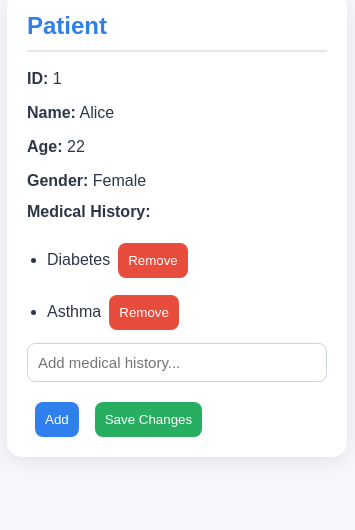
Test case: PatientCard › adds new medical history
This screenshot has width=355, height=530.
In the field with placeholder "Add medical history...": {"x": 177, "y": 362} top-left (27, 343), bottom-right (327, 382), type "Allergy"
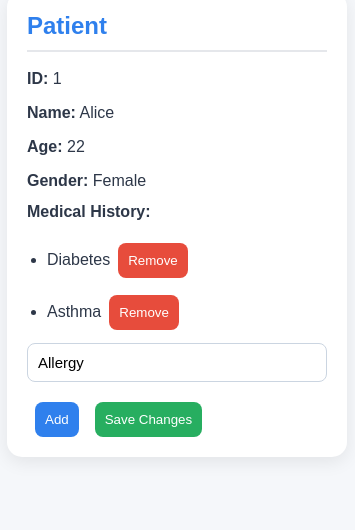
Click the button "Add": {"x": 57, "y": 420} top-left (35, 402), bottom-right (79, 437)
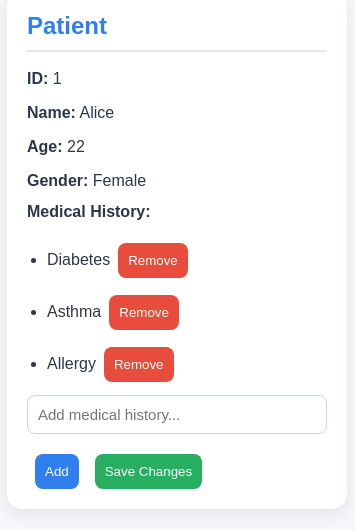
Now the list item "Allergy" is shown, box top-left (47, 355), bottom-right (96, 372)
